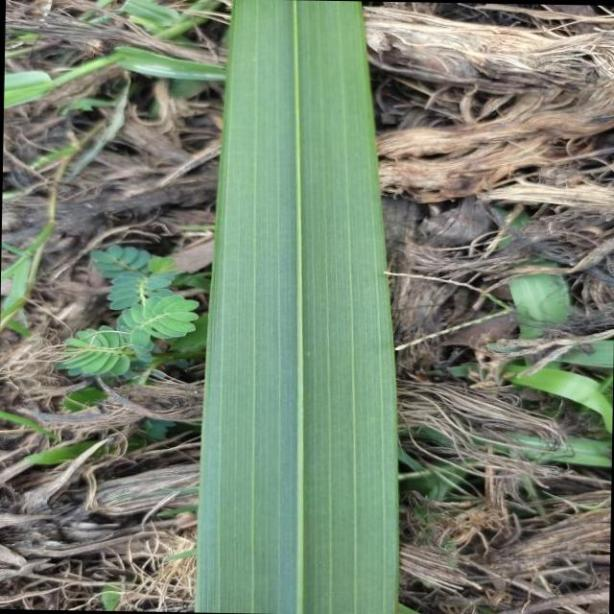Healthy: (194, 0, 402, 614)
